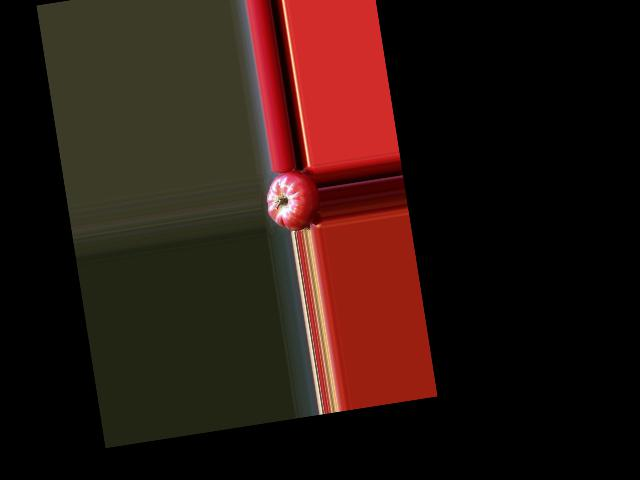tomato: (262, 167, 324, 235)
